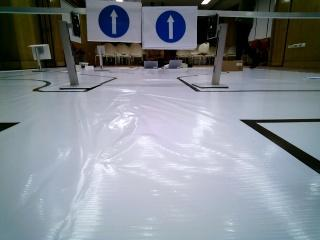straight: (86, 0, 143, 41), (142, 6, 196, 48)
